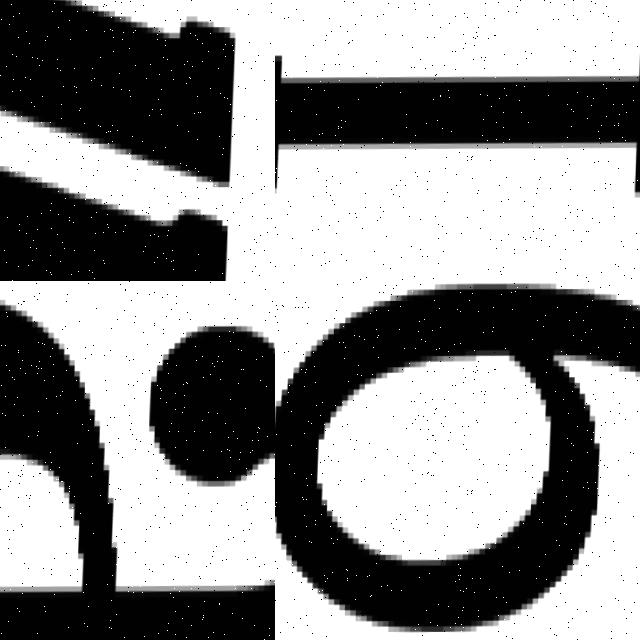6: (275, 281, 640, 640)
A: (0, 281, 275, 640)
F: (275, 27, 640, 213)
U: (0, 0, 252, 281)
